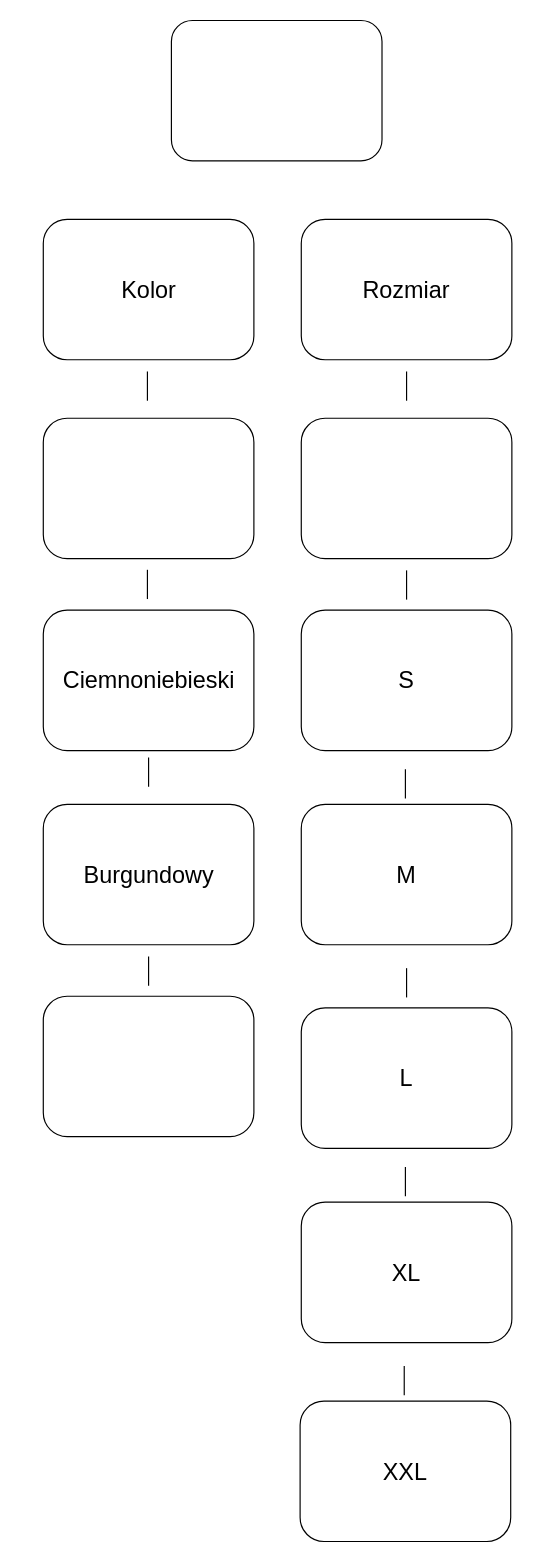
This 556x1562 diagram has some shape labels left out. Here are the shapes that lost their labels. From the top down, the centre of each, then its label:
At [276,90]: "Kurtka Nylonowa".
At [148,488]: "Czarny".
At [406,488]: "XS".
At [148,1066]: "Ciemna zieleń khaki".
